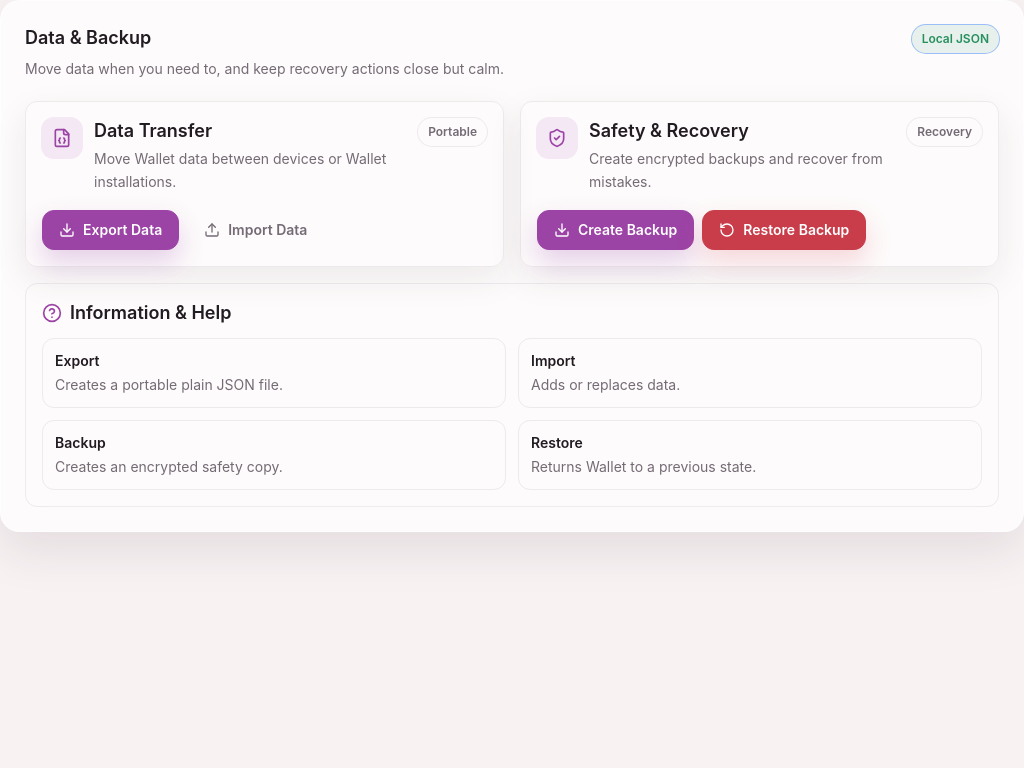
Test case: clicking create backup shows success notification
Click the button "Create Backup" at (616, 230), box [537,210,694,250]
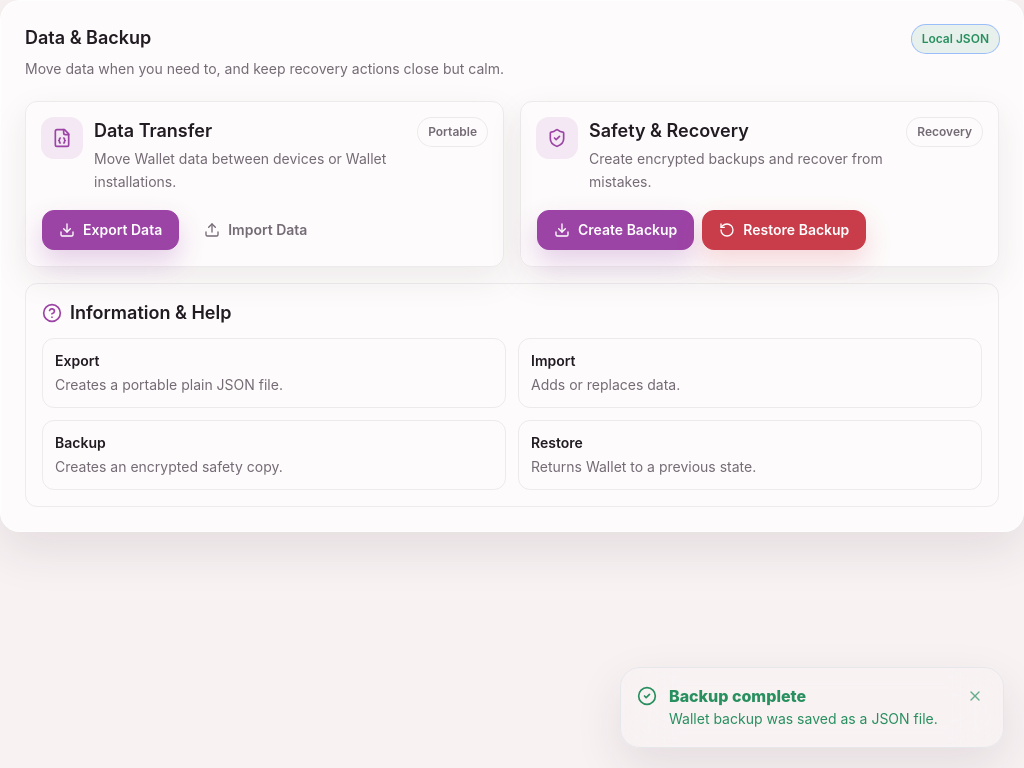
Check: the text "Backup complete" is shown, box [669,686,806,706]
